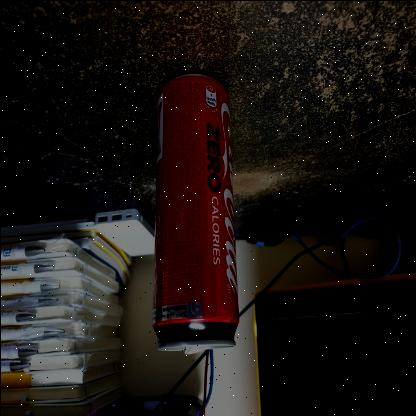Can: (152, 67, 238, 352)
